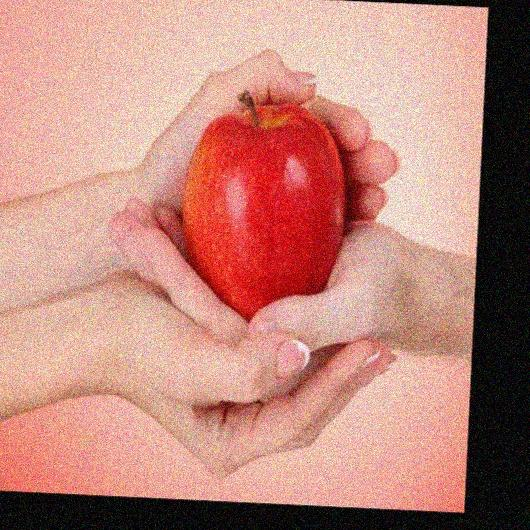red apple: (176, 101, 345, 324)
